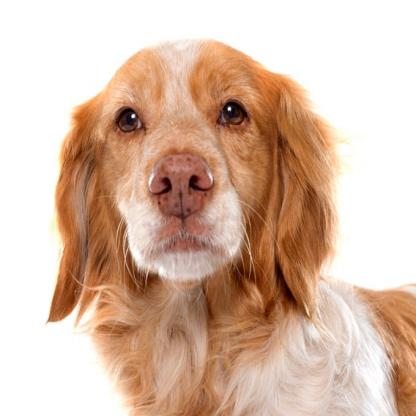Brittany: (43, 21, 416, 416)
